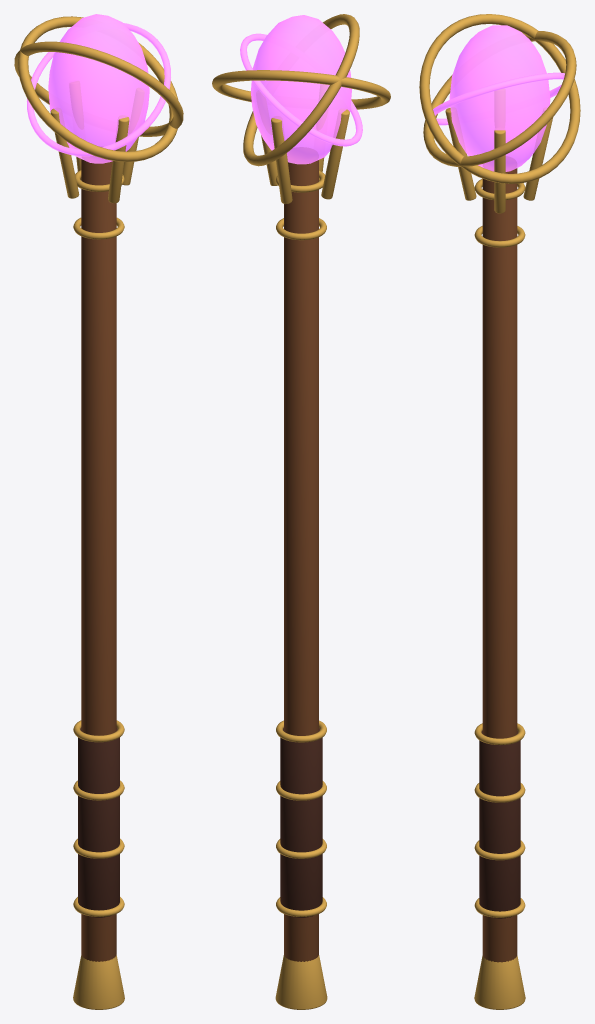
Rendered from magic_staff_crystal.glb.
3 views of the same model, side by side, from view 1: azimuth 30°, elevation 25°; view 2: azimuth 150°, elevation 25°; view 3: azimuth 270°, elevation 25° (orthographic).
Visible parts, largest first — view 1: Staff_RunewoodShaft, Crystal_FacetedCore, Staff_LeatherGrip, Crystal_Orbit_A, Crystal_Orbit_B, Staff_Ferrule, Crystal_Orbit_Glow, Crystal_Prongs_4, Crystal_Prongs_3, Staff_Collar_4, Staff_Collar_5, Staff_Collar_2 (+2 smaller); view 2: Staff_RunewoodShaft, Crystal_FacetedCore, Staff_LeatherGrip, Crystal_Orbit_B, Crystal_Orbit_A, Staff_Ferrule, Crystal_Orbit_Glow, Crystal_Prongs_3, Crystal_Prongs_2, Staff_Collar_5, Staff_Collar_4, Staff_Collar_1 (+2 smaller); view 3: Staff_RunewoodShaft, Crystal_FacetedCore, Staff_LeatherGrip, Crystal_Orbit_B, Crystal_Orbit_A, Staff_Ferrule, Crystal_Orbit_Glow, Crystal_Prongs_1, Crystal_Prongs_4, Crystal_Prongs_2, Staff_Collar_5, Staff_Collar_4 (+4 smaller).
Part boxes in pixels (x1,y1,x2,y2): Staff_RunewoodShaft: [81, 159, 116, 961]; Crystal_FacetedCore: [48, 14, 149, 163]; Staff_LeatherGrip: [78, 727, 119, 917]; Crystal_Orbit_A: [18, 16, 178, 161]; Crystal_Orbit_B: [14, 41, 183, 136]; Staff_Ferrule: [73, 955, 124, 1009]; Crystal_Orbit_Glow: [26, 23, 170, 156]; Crystal_Prongs_4: [108, 117, 129, 203]; Crystal_Prongs_3: [50, 108, 79, 198]; Staff_Collar_4: [73, 720, 124, 742]; Staff_Collar_5: [73, 217, 124, 239]; Staff_Collar_2: [73, 838, 124, 858]; Staff_RunewoodShaft: [284, 160, 318, 961]; Crystal_FacetedCore: [250, 15, 351, 164]; Staff_LeatherGrip: [280, 727, 322, 917]; Crystal_Orbit_B: [243, 14, 359, 166]; Crystal_Orbit_A: [212, 70, 390, 109]; Staff_Ferrule: [275, 955, 327, 1009]; Crystal_Orbit_Glow: [240, 33, 362, 146]; Crystal_Prongs_3: [321, 109, 349, 199]; Crystal_Prongs_2: [271, 118, 292, 203]; Staff_Collar_5: [276, 218, 326, 240]; Staff_Collar_4: [276, 720, 326, 742]; Staff_Collar_1: [276, 897, 326, 916]; Staff_RunewoodShaft: [482, 168, 517, 962]; Crystal_FacetedCore: [449, 25, 550, 171]; Staff_LeatherGrip: [479, 730, 520, 918]; Crystal_Orbit_B: [419, 14, 580, 183]; Crystal_Orbit_A: [423, 31, 576, 166]; Staff_Ferrule: [474, 955, 525, 1009]; Crystal_Orbit_Glow: [433, 72, 564, 125]; Crystal_Prongs_1: [494, 130, 505, 213]; Crystal_Prongs_4: [445, 108, 476, 200]; Crystal_Prongs_2: [523, 117, 553, 200]; Staff_Collar_5: [474, 226, 525, 247]; Staff_Collar_4: [474, 723, 525, 744].
Bounding box in the file's own units: 0.3011 × 1.86 × 0.2788.
